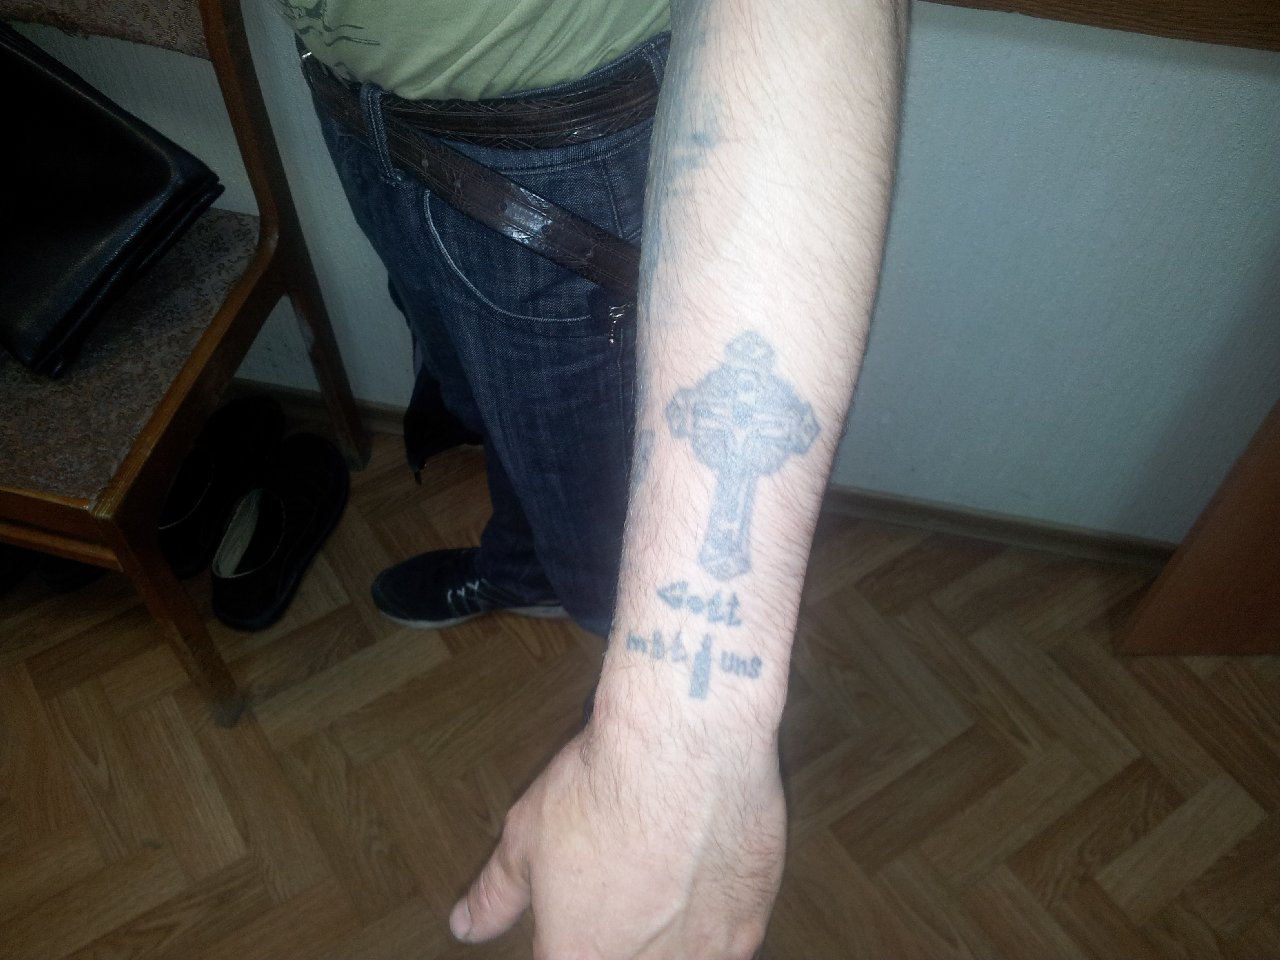tatu3_bukva: (621, 573, 777, 689)
tatu9_krest: (660, 324, 831, 584)
